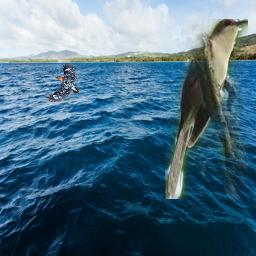Cuckoo: (165, 19, 248, 199)
Woodpecker: (46, 63, 79, 102)
